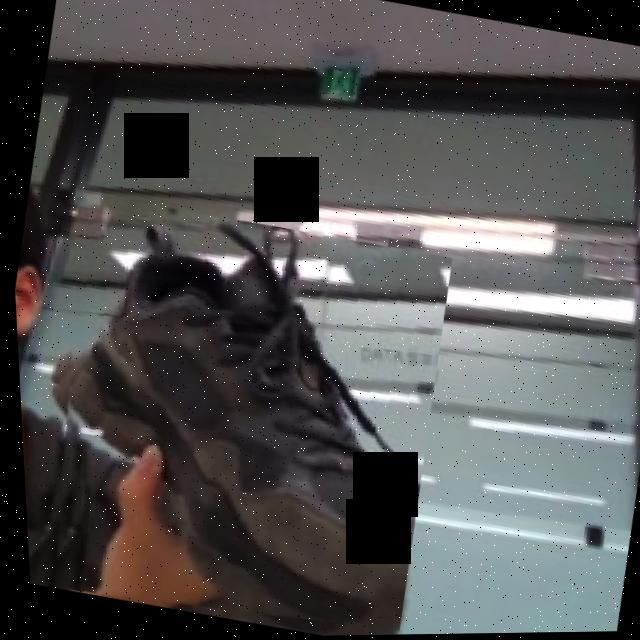shoe: (8, 188, 465, 640)
